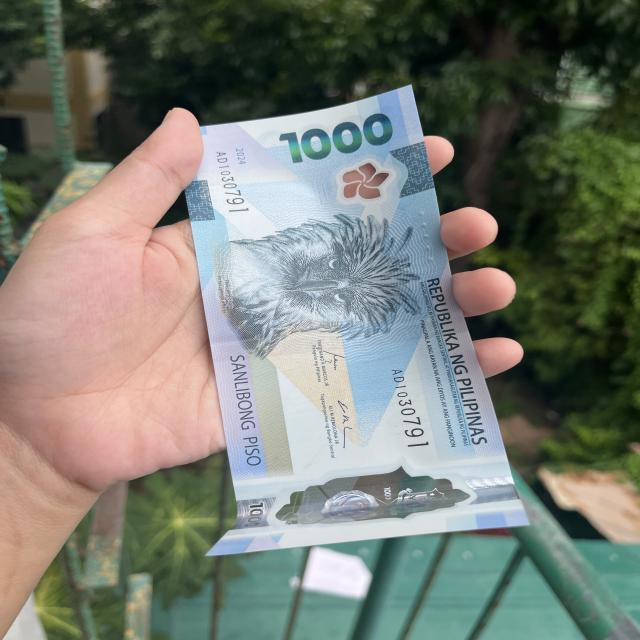clear_window: (274, 460, 480, 529)
eagle: (248, 203, 420, 344)
sampaguita: (308, 158, 400, 210)
security_thread: (210, 313, 463, 364)
serial_number: (383, 358, 438, 452), (208, 144, 254, 214)
value_watermark: (235, 496, 273, 537)
